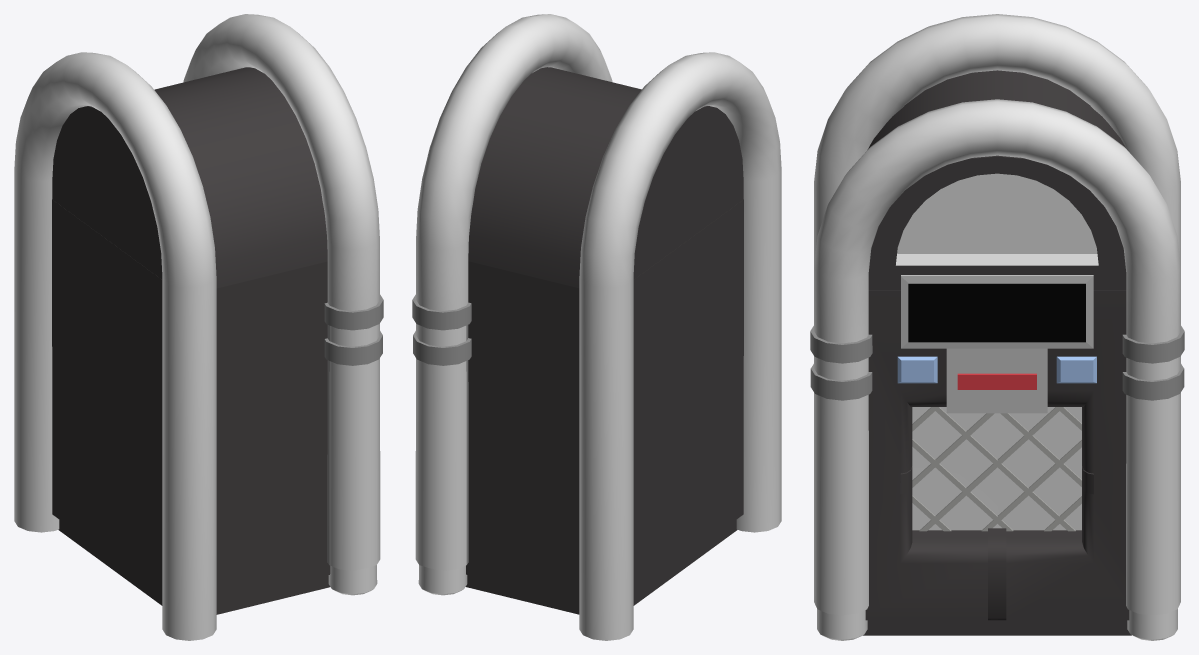
Rendered from musicBox.fbx.
3 renders of one model, left to right at view 1: azimuth 30°, elevation 25°; view 2: azimuth 150°, elevation 25°; view 3: azimuth 270°, elevation 25°, orthographic. The views are drawn at different scales.
Parts seen in each view (by area): view 1: Cube.001; view 2: Cube.001; view 3: Cube.001.
Boxes of the visible parts, <box> form: Cube.001: <box>14,14,383,640</box>; Cube.001: <box>412,14,781,640</box>; Cube.001: <box>810,14,1184,640</box>.
Size of the model in its own units: 683 by 1567 by 992.
